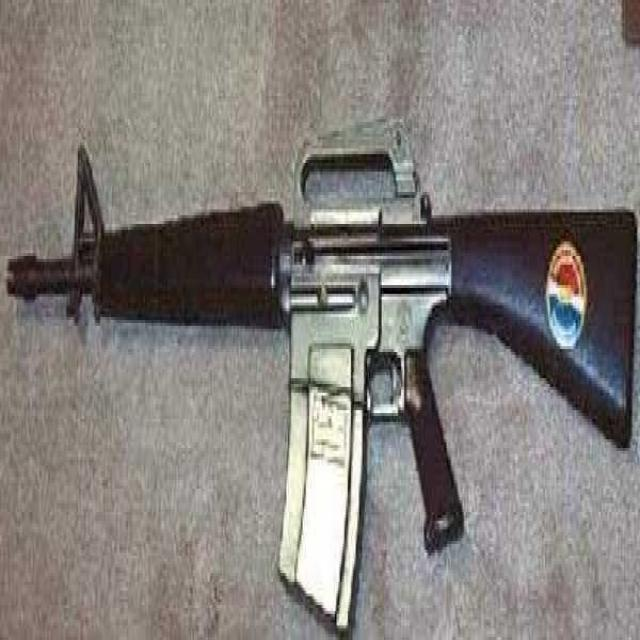heavyweapon: (7, 65, 640, 640)
